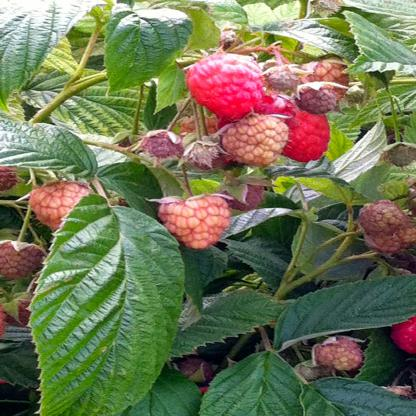raspberry leaf: (36, 198, 183, 416)
